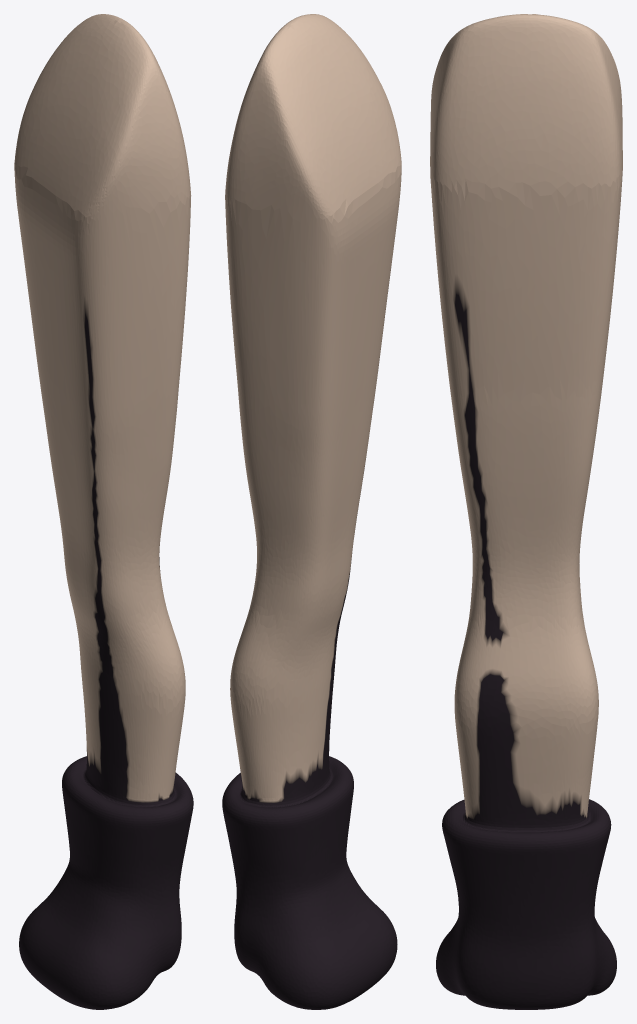
The model's file is leg_R.glb.
3 views of the same model, side by side, from view 1: azimuth 30°, elevation 25°; view 2: azimuth 150°, elevation 25°; view 3: azimuth 270°, elevation 25° (orthographic). The views are drawn at different scales.
Parts seen in each view (by area): view 1: geometry_0; view 2: geometry_0; view 3: geometry_0.
Part boxes in pixels (<box>): geometry_0: <box>14,14,193,1009</box>; geometry_0: <box>222,14,401,1009</box>; geometry_0: <box>430,14,622,1009</box>.
Size of the model in its own units: 0.1618 by 1.09 by 0.1912.
